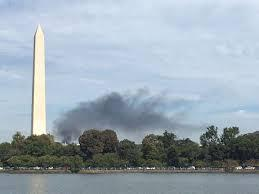smoke: (51, 91, 202, 141)
